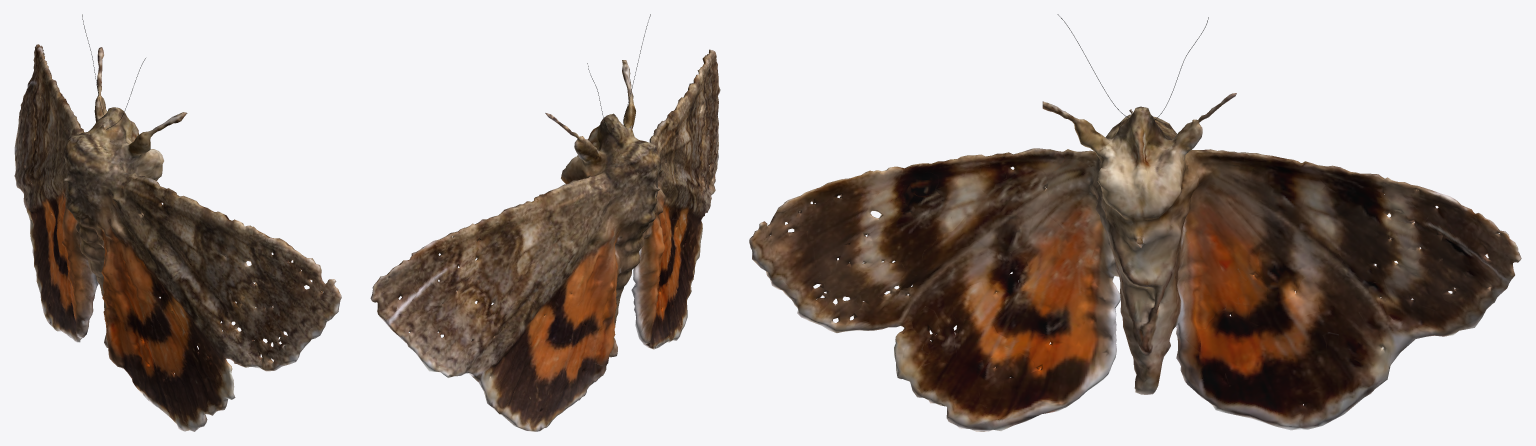
Rendered from borboleta.glb.
3 views of the same model, side by side, from view 1: azimuth 30°, elevation 25°; view 2: azimuth 150°, elevation 25°; view 3: azimuth 270°, elevation 25° (orthographic). The views are drawn at different scales.
Visible parts, largest first — view 1: Object_3; view 2: Object_3; view 3: Object_3.
Part boxes in pixels (x1=…): Object_3: x1=14, y1=44, x2=341, y2=431; Object_3: x1=370, y1=49, x2=720, y2=431; Object_3: x1=749, y1=93, x2=1521, y2=431.
Bounding box in the file's own units: 3.39 × 8.53 × 14.36.
Materials: 2 (1 with a texture image).
